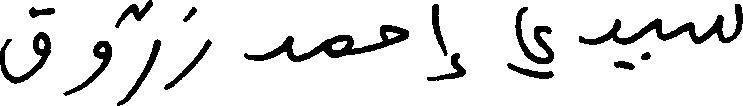X: (0, 2, 49, 88), (119, 0, 158, 105), (168, 2, 210, 93), (513, 2, 552, 83), (67, 36, 109, 99), (690, 0, 742, 48), (581, 14, 620, 72), (247, 31, 293, 66), (433, 0, 446, 85), (325, 30, 353, 62), (382, 20, 407, 52), (651, 13, 660, 43)
